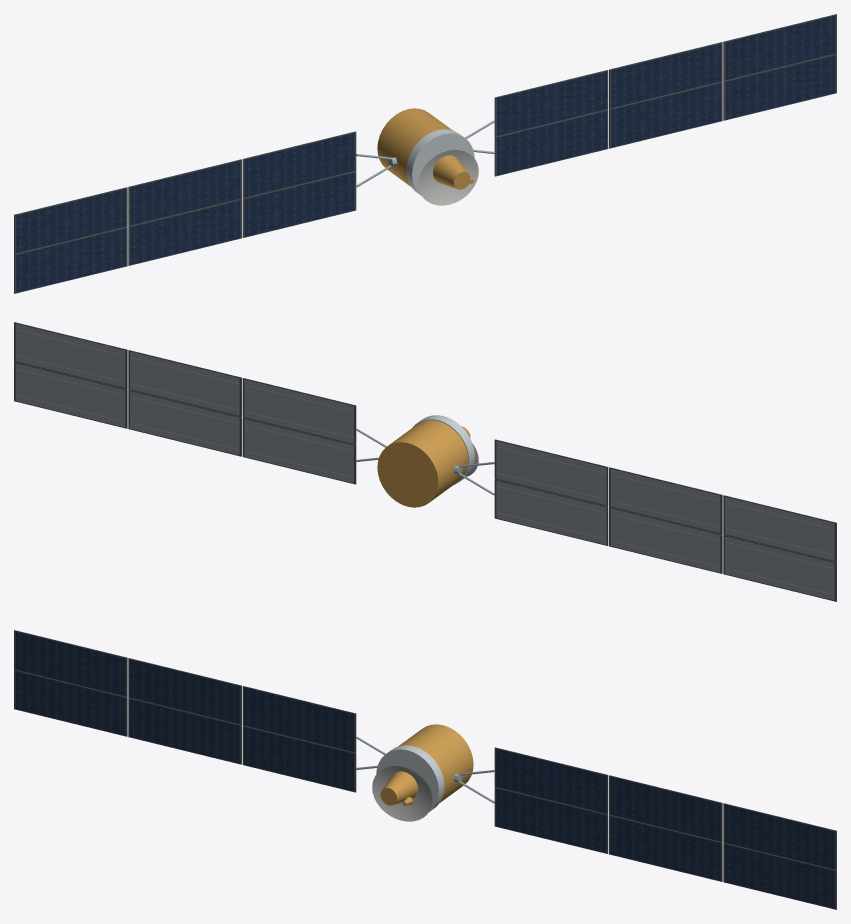
Rendered from ref-ekspress-23319.glb.
The picture shows the model from 3 angles, top to bottom: view 1: azimuth 30°, elevation 25°; view 2: azimuth 150°, elevation 25°; view 3: azimuth 330°, elevation 25°; orthographic projection.
Parts seen in each view (by area): view 1: Solar cell panel (×12), Solar panel frame (×12), Service barrel, Deck-mounted reflector, Equipment flange, Axial antenna horn; view 2: Rear array substrate (×12), Solar panel frame (×12), Service barrel, Equipment flange; view 3: Solar cell panel (×12), Solar panel frame (×12), Service barrel, Equipment flange, Deck-mounted reflector, Axial antenna horn.
Boxes of the visible parts, x1,y1,x2,y2 form: Solar cell panel (×12): [16, 16, 835, 292]; Solar panel frame (×12): [14, 14, 836, 293]; Service barrel: [377, 108, 452, 186]; Deck-mounted reflector: [418, 150, 478, 205]; Equipment flange: [406, 129, 474, 195]; Axial antenna horn: [433, 155, 470, 189]; Rear array substrate (×12): [15, 324, 834, 600]; Solar panel frame (×12): [14, 322, 836, 601]; Service barrel: [377, 420, 468, 507]; Equipment flange: [412, 415, 474, 484]; Solar cell panel (×12): [15, 632, 834, 908]; Solar panel frame (×12): [14, 630, 836, 909]; Service barrel: [398, 724, 473, 802]; Equipment flange: [376, 745, 444, 811]; Deck-mounted reflector: [372, 766, 432, 821]; Axial antenna horn: [380, 771, 417, 805].
Bounding box in the file's own units: 26.96 × 2.47 × 3.08.
Materials: 7 (1 with a texture image).
